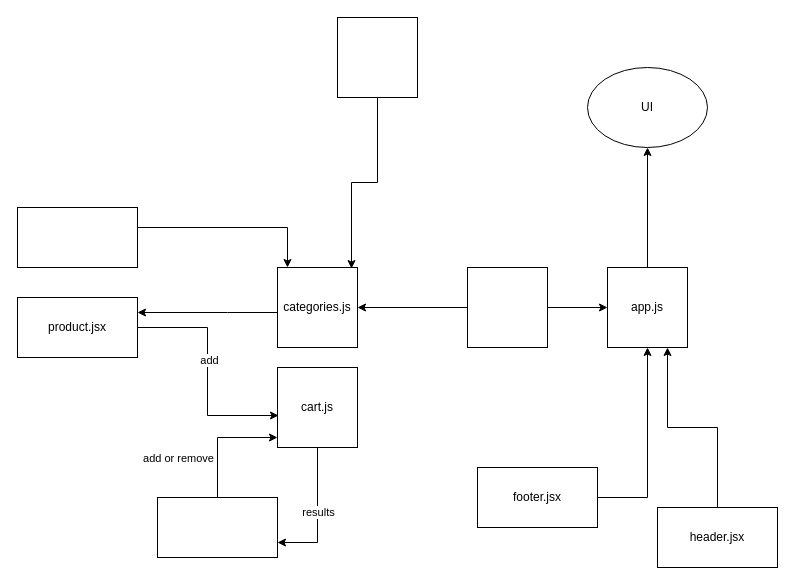
Image size: 795x585. Some labels were removed from this diagram. Each missing label, with the centre of its shape:
"category.jsx" goes at (77,237).
"index.js" goes at (507,307).
"live API" goes at (377,57).
"simplecart.jsx" goes at (217,527).
